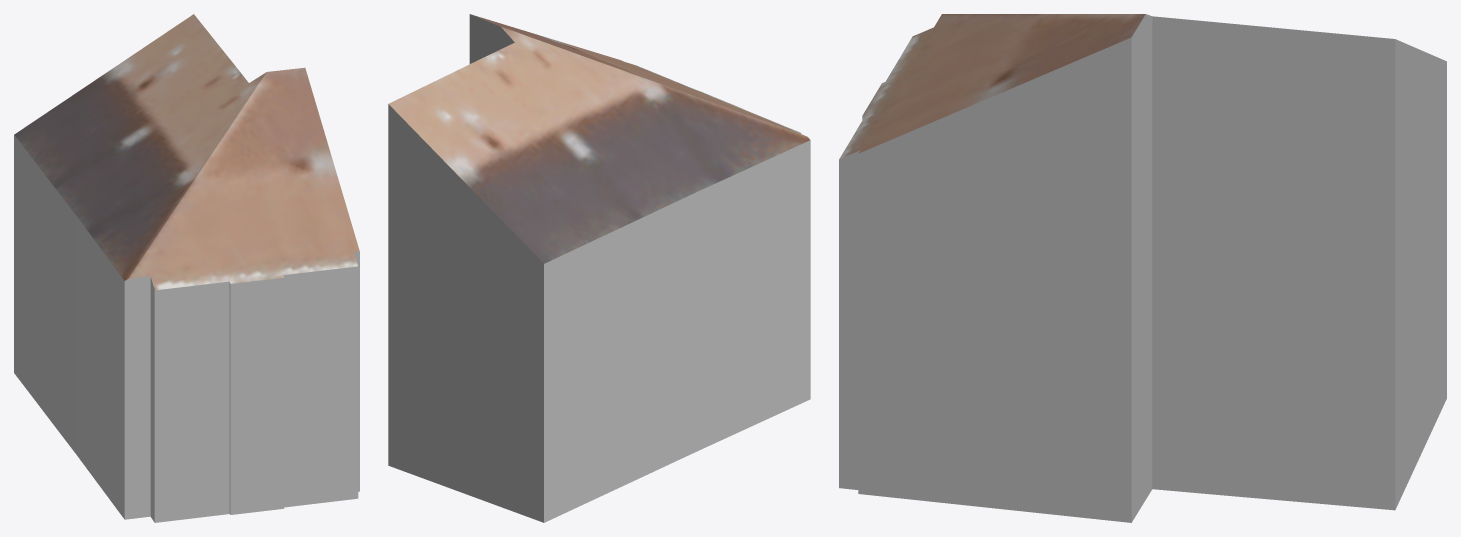
The model's file is DEBW_0010007Txho.gltf.
The picture shows the model from 3 angles, left to right: view 1: azimuth 30°, elevation 25°; view 2: azimuth 150°, elevation 25°; view 3: azimuth 270°, elevation 25°; orthographic projection. The views are drawn at different scales.
Parts seen in each view (by area): view 1: Z_UP; view 2: Z_UP; view 3: Z_UP.
Part boxes in pixels (left/top/right/bottom): Z_UP: left=14, top=14, right=359, bottom=522; Z_UP: left=388, top=14, right=810, bottom=522; Z_UP: left=839, top=14, right=1446, bottom=522.
Bounding box in the file's own units: 14.35 × 19.05 × 21.59.
Materials: 2 (1 with a texture image).
